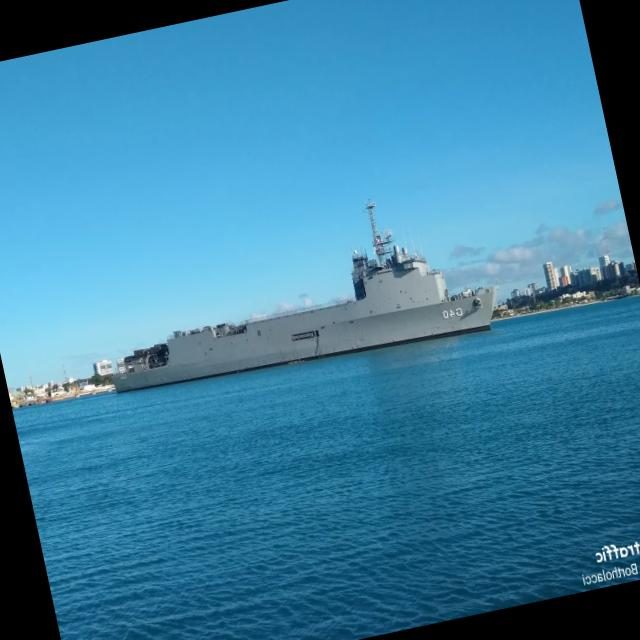Military: (114, 203, 496, 392)
